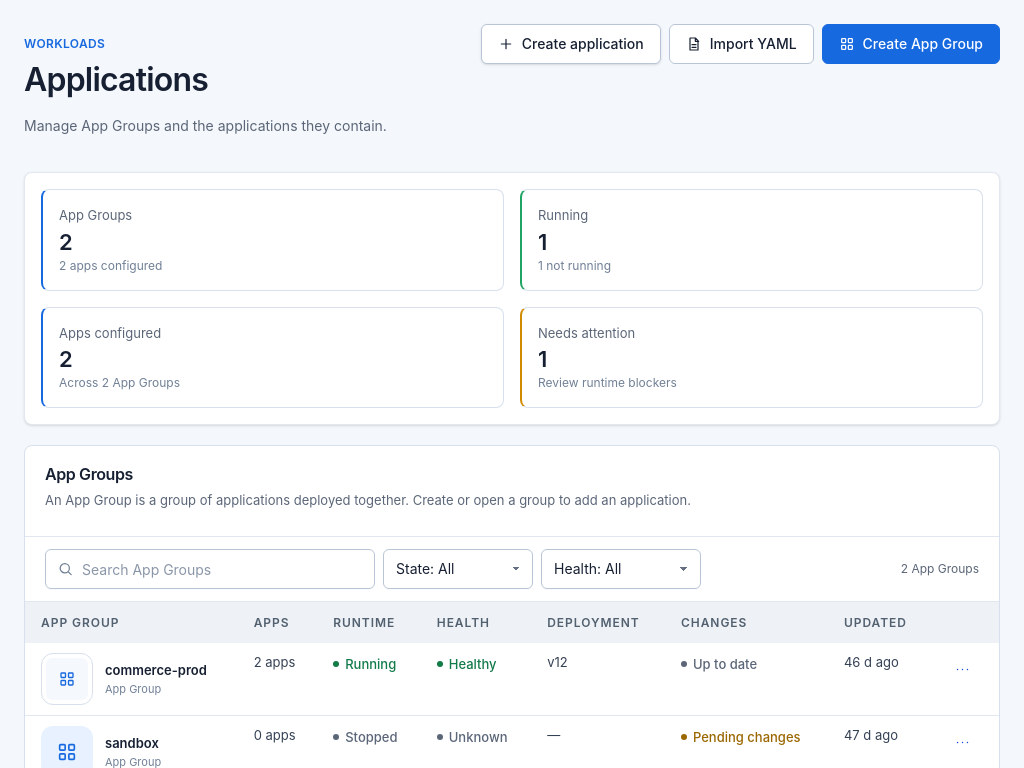
Test: ApplicationsPage › filters inventory without changing backend truth
Expected: the text "commerce-prod" is shown, [105,661,207,680]
Type "sand" into the field labelled "Search App Groups" at (210, 569), box [45,549,375,589]
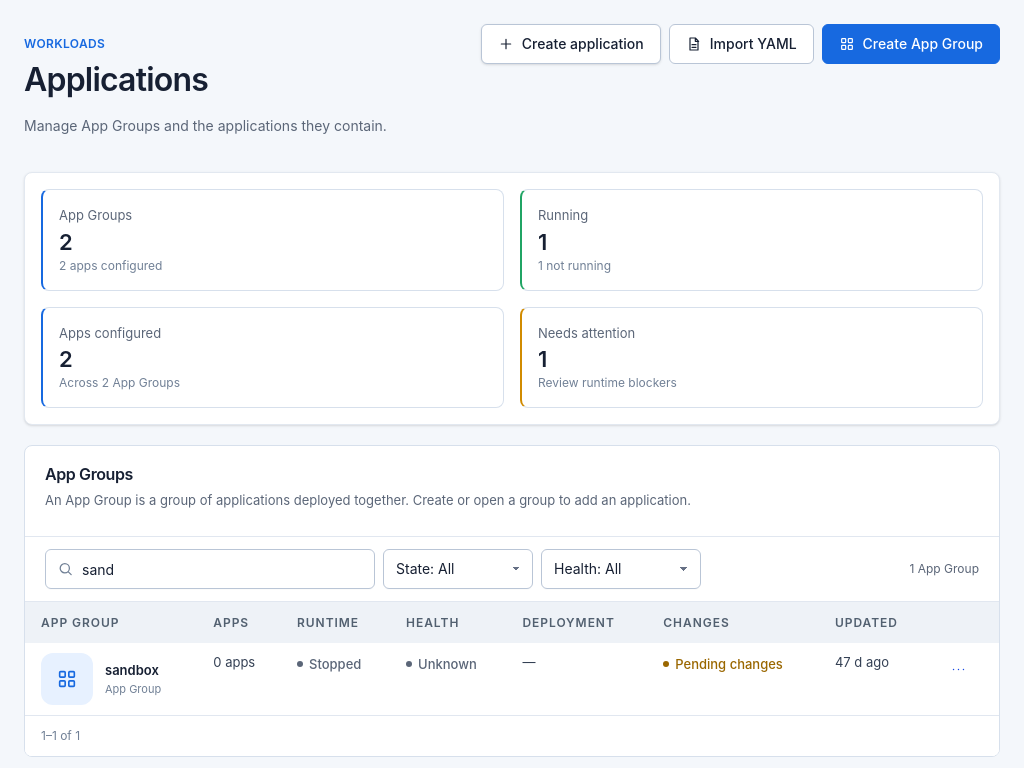
Expected: the text "sandbox" is shown, [105,661,161,680]
Now the link "commerce-prod" is gone
